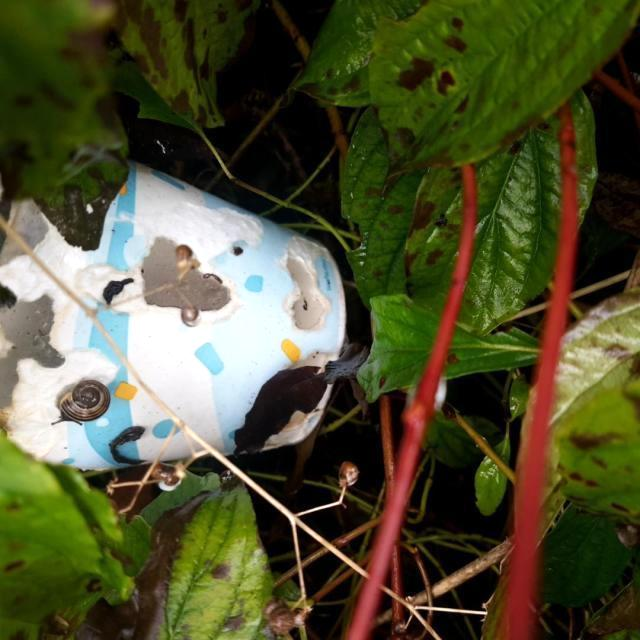Paper: (0, 157, 352, 481)
